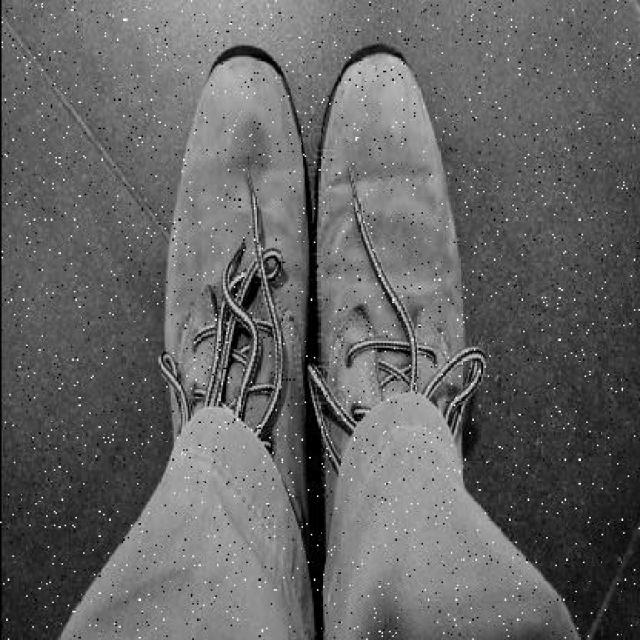shoes: (162, 43, 306, 582), (322, 58, 456, 604)
